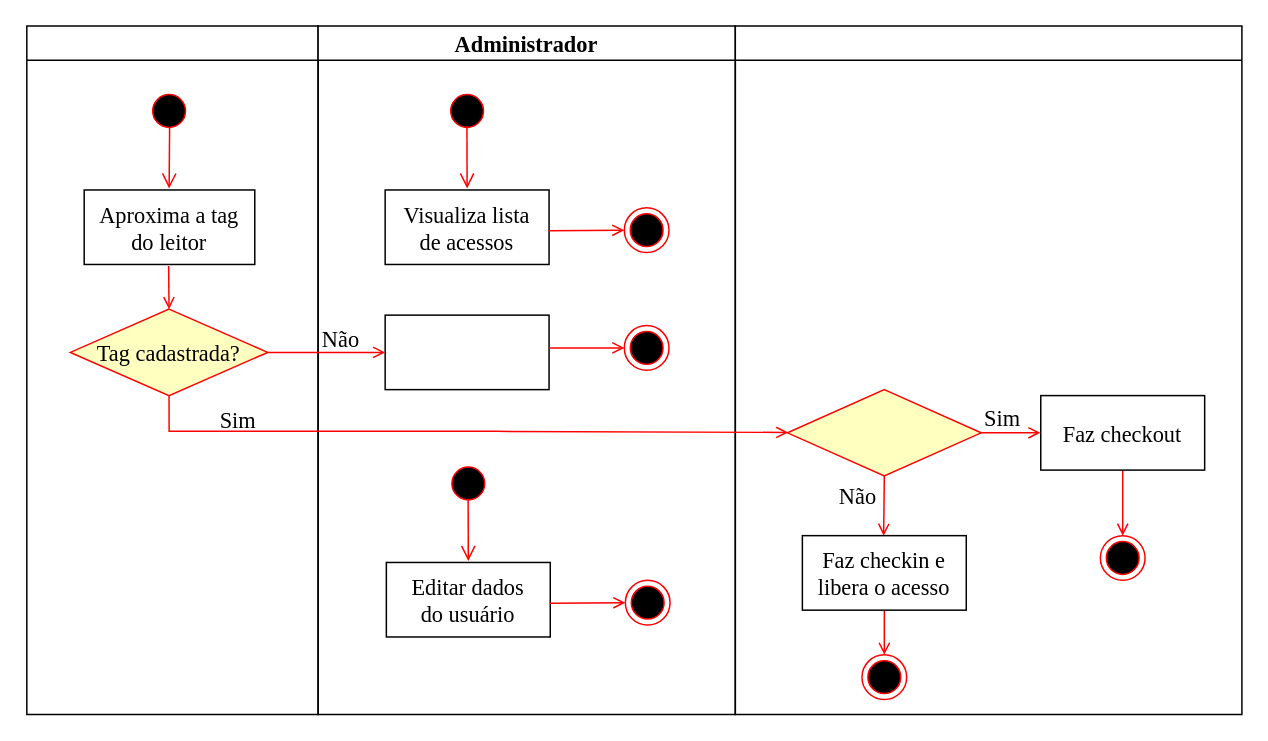
The diagram is 1268 pixels wide and 741 high, and some of its shapes have lost their labels. Each missing label, with the box of its shape:
Cadastra usuário e vincula a tag: (384, 314, 549, 390)
Dispositivo Embarcado: (734, 25, 1242, 714)
tem checkin pendente?: (786, 388, 981, 476)
Usuário: (25, 25, 318, 714)
